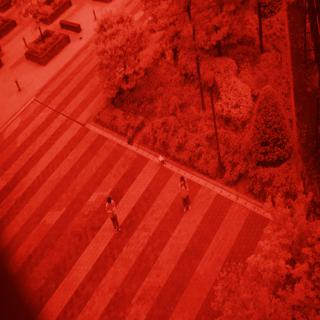person: (103, 193, 128, 241), (176, 167, 193, 216)
